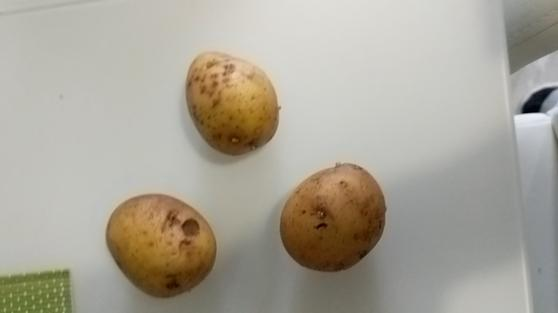potato: (279, 163, 388, 272), (107, 192, 219, 297), (185, 51, 279, 158)
